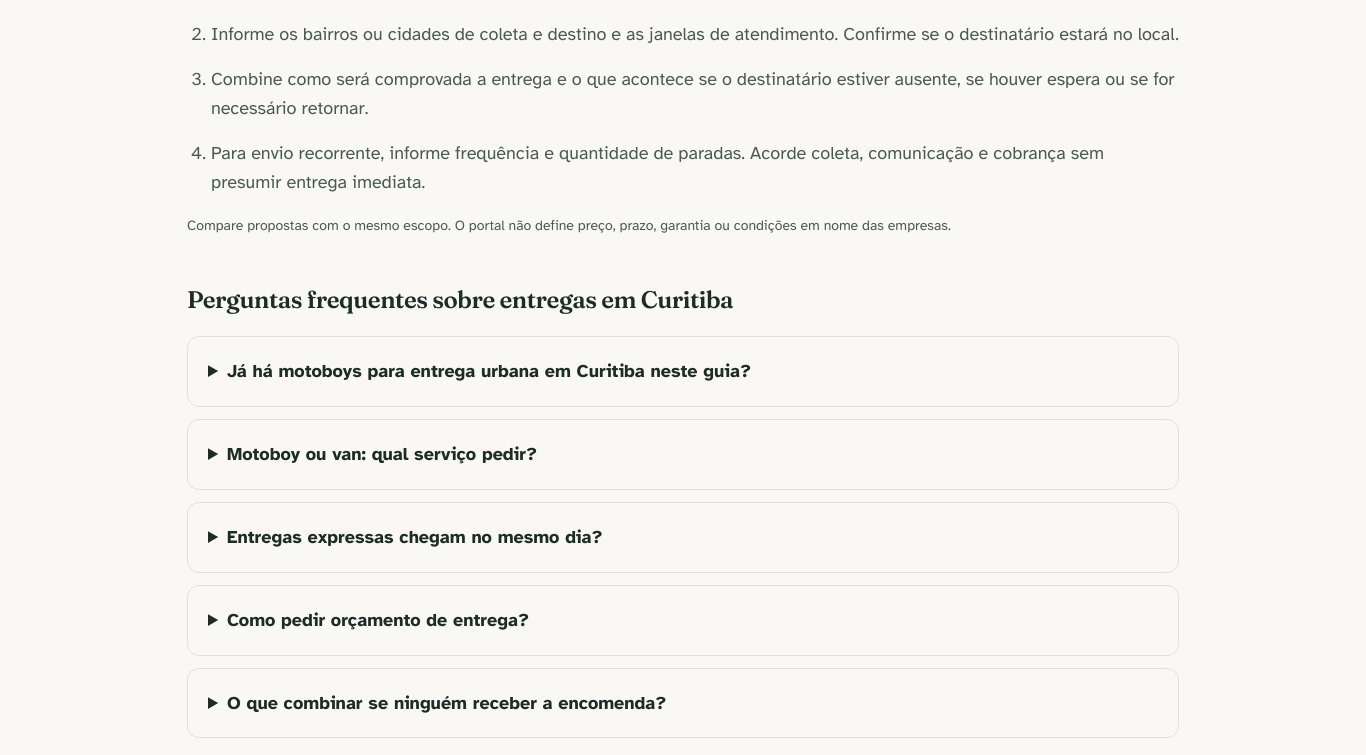
guias editoriais de Curitiba › renderiza título, metadados, âncoras, FAQ e cadastro de Entregas
The width and height of the screenshot is (1366, 755).
(page scrolled)
Click the heading "Já há motoboys para entrega urbana em Curitiba neste guia?". click: (489, 371)
box: [227,360,751,382]
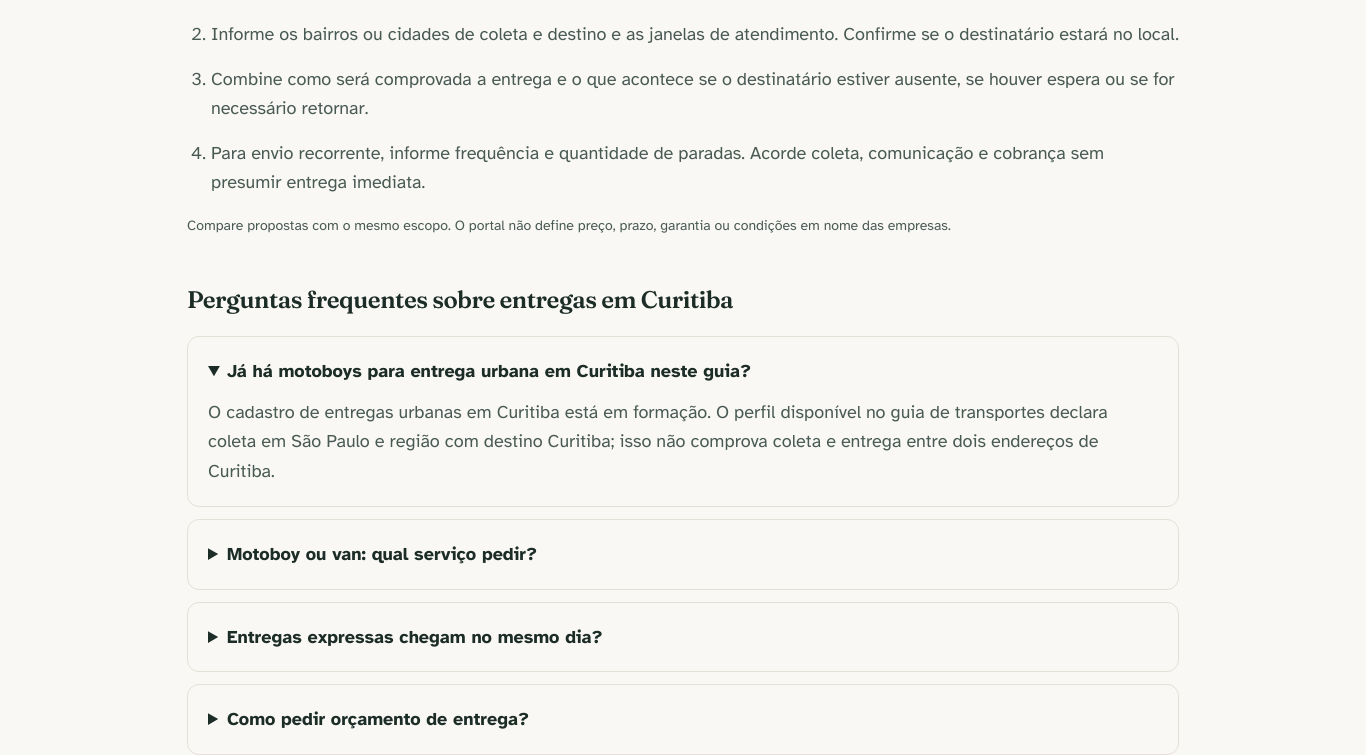
Click the heading "Já há motoboys para entrega urbana em Curitiba neste guia?". click: (489, 371)
box: [227,360,751,382]
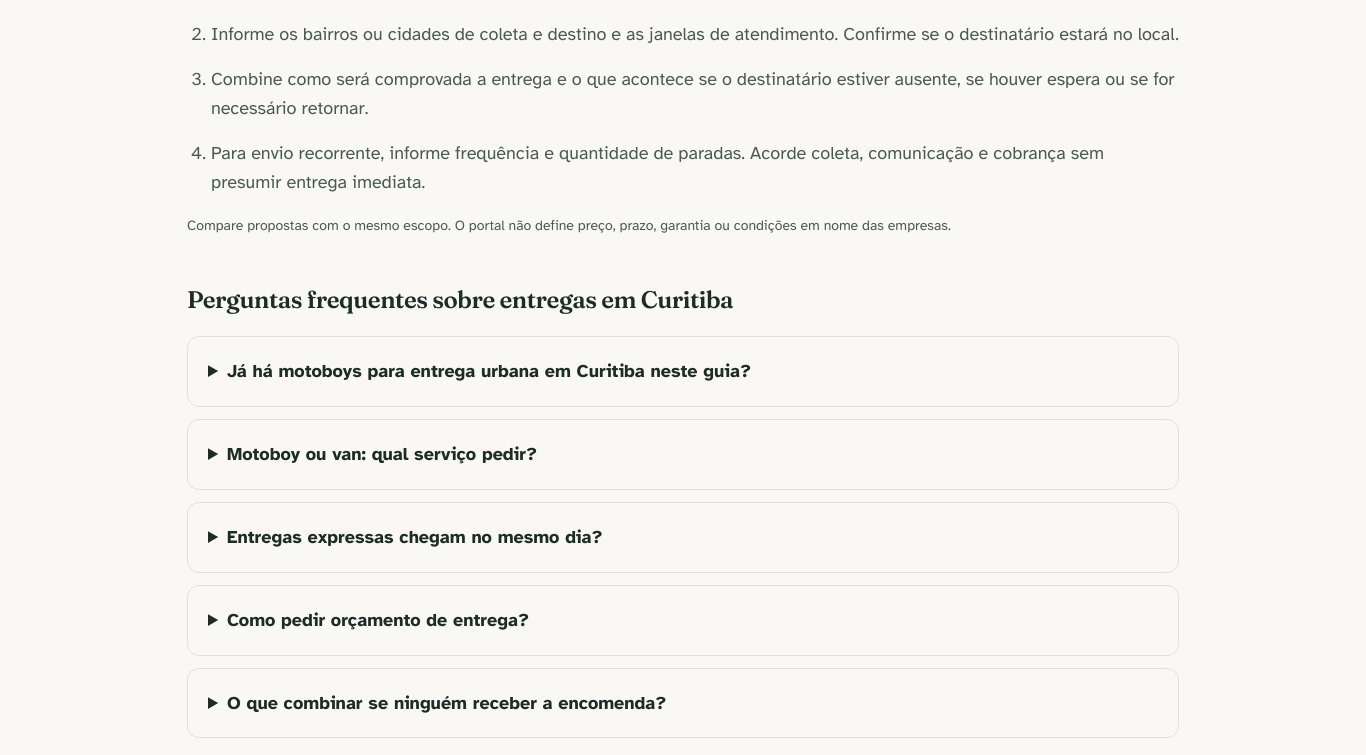
Expected: the element showing "Já há motoboys para entrega urbana em Curitiba neste guia?" does not have attribute open, [187,336,1179,407]
